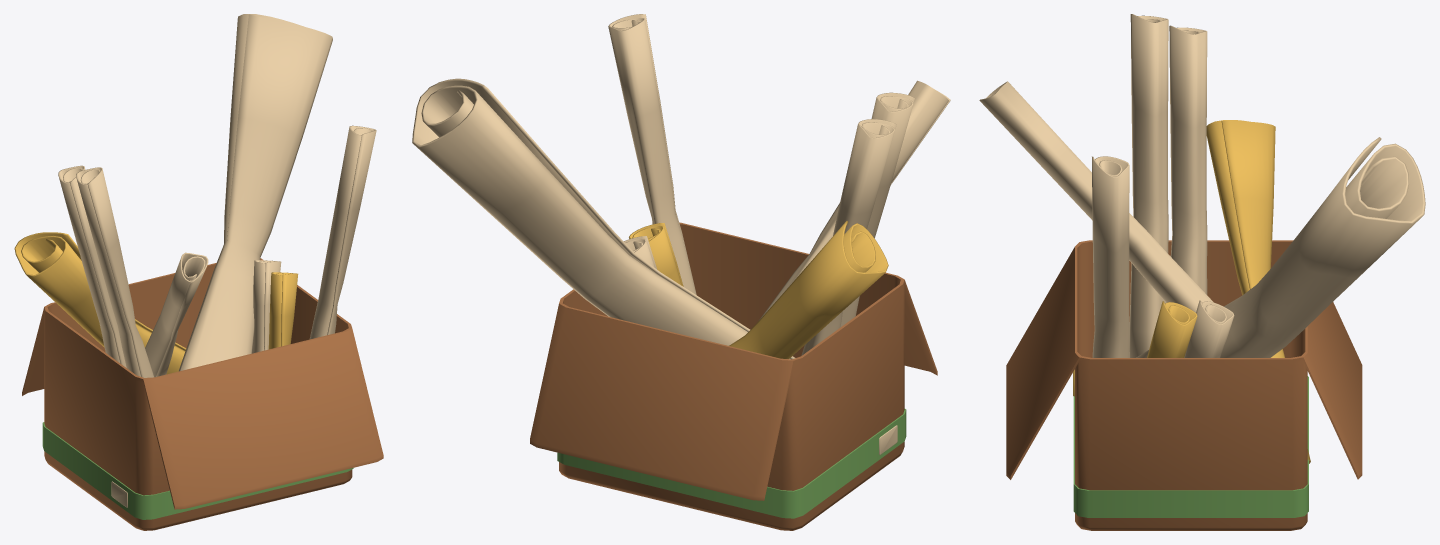
File: boxFilledPapers.fbx
3 renders of one model, left to right at view 1: azimuth 30°, elevation 25°; view 2: azimuth 150°, elevation 25°; view 3: azimuth 270°, elevation 25°, orthographic. The views are drawn at different scales.
Visible parts, largest first — view 1: Plane.004, Plane.005, Plane.003, Plane.009, Plane.007, Plane.006, Plane.001, Plane.002, Plane.008, Plane.010; view 2: Plane.004, Plane.005, Plane.003, Plane.009, Plane.006, Plane.001, Plane.002, Plane.007, Plane.008; view 3: Plane.004, Plane.005, Plane.007, Plane.001, Plane.003, Plane.002, Plane.009, Plane.006, Plane.008, Plane.010.
Boxes of the visible parts, left/top/right/bottom form: Plane.004: left=22, top=258, right=383, bottom=530; Plane.005: left=179, top=14, right=332, bottom=371; Plane.003: left=14, top=232, right=186, bottom=374; Plane.009: left=309, top=125, right=376, bottom=339; Plane.007: left=76, top=167, right=153, bottom=377; Plane.006: left=42, top=422, right=353, bottom=519; Plane.001: left=58, top=165, right=126, bottom=367; Plane.002: left=145, top=252, right=208, bottom=377; Plane.008: left=268, top=272, right=298, bottom=349; Plane.010: left=252, top=260, right=281, bottom=353; Plane.004: left=530, top=222, right=937, bottom=530; Plane.005: left=412, top=78, right=795, bottom=359; Plane.003: left=729, top=221, right=888, bottom=358; Plane.009: left=608, top=14, right=696, bottom=294; Plane.006: left=557, top=409, right=906, bottom=518; Plane.001: left=801, top=119, right=896, bottom=355; Plane.002: left=759, top=80, right=950, bottom=320; Plane.007: left=840, top=92, right=914, bottom=327; Plane.008: left=629, top=223, right=683, bottom=286; Plane.004: left=1006, top=240, right=1362, bottom=530; Plane.005: left=1136, top=137, right=1425, bottom=357; Plane.007: left=1129, top=14, right=1168, bottom=357; Plane.001: left=1169, top=25, right=1207, bottom=294; Plane.003: left=1206, top=120, right=1310, bottom=463; Plane.002: left=979, top=81, right=1213, bottom=312; Plane.009: left=1092, top=156, right=1129, bottom=357; Plane.006: left=1073, top=376, right=1308, bottom=517; Plane.008: left=1147, top=301, right=1197, bottom=357; Plane.010: left=1184, top=300, right=1234, bottom=357.
Size of the model in its own units: 282 by 272 by 267.
